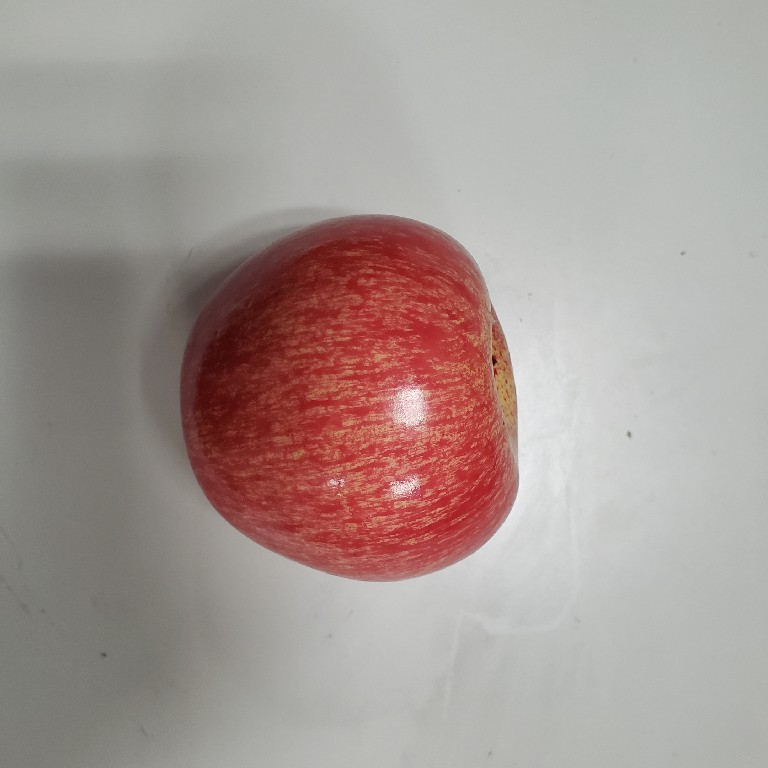fruit_apple: (172, 200, 538, 594)
